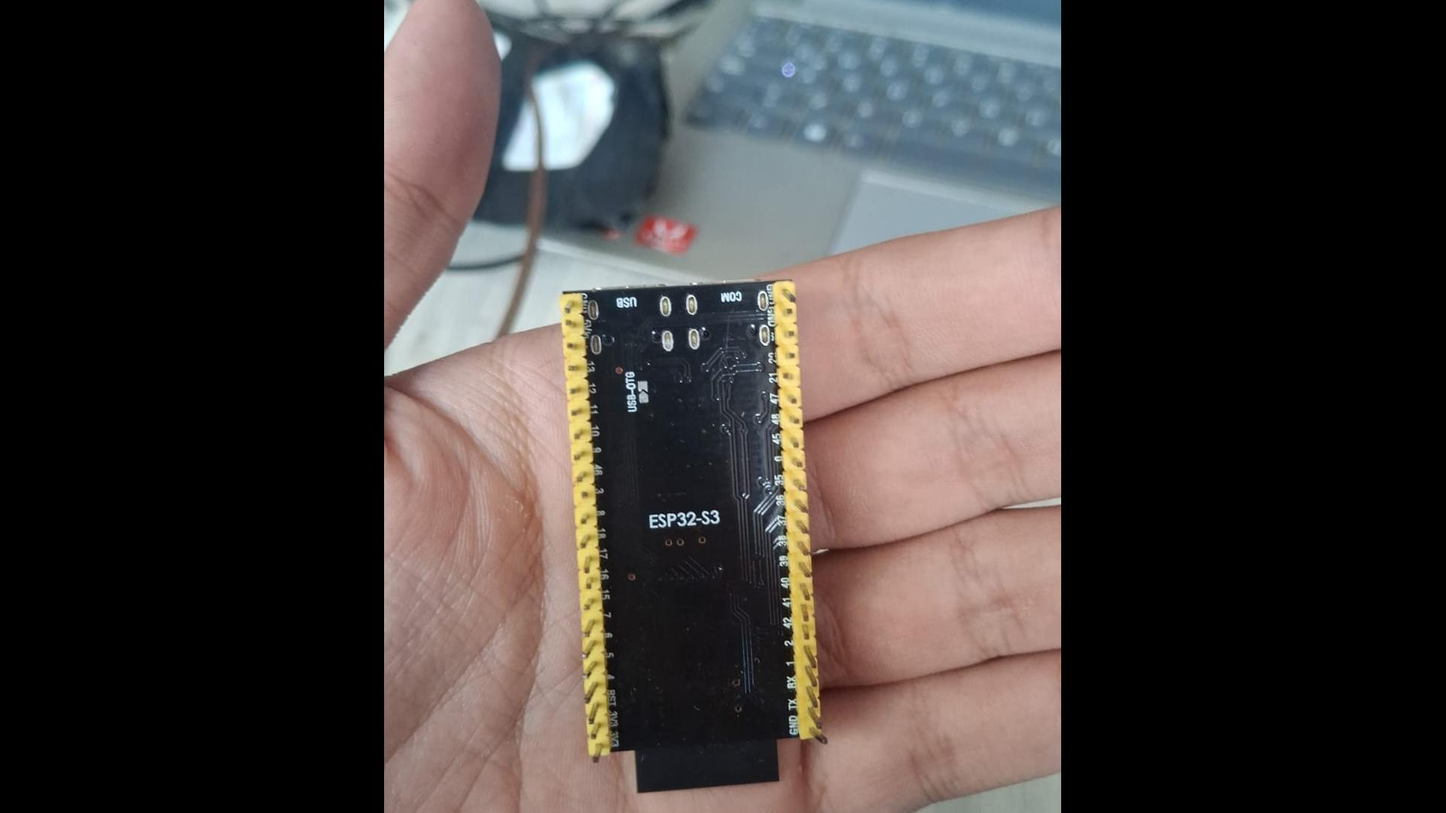ESP32: (561, 278, 826, 792)
